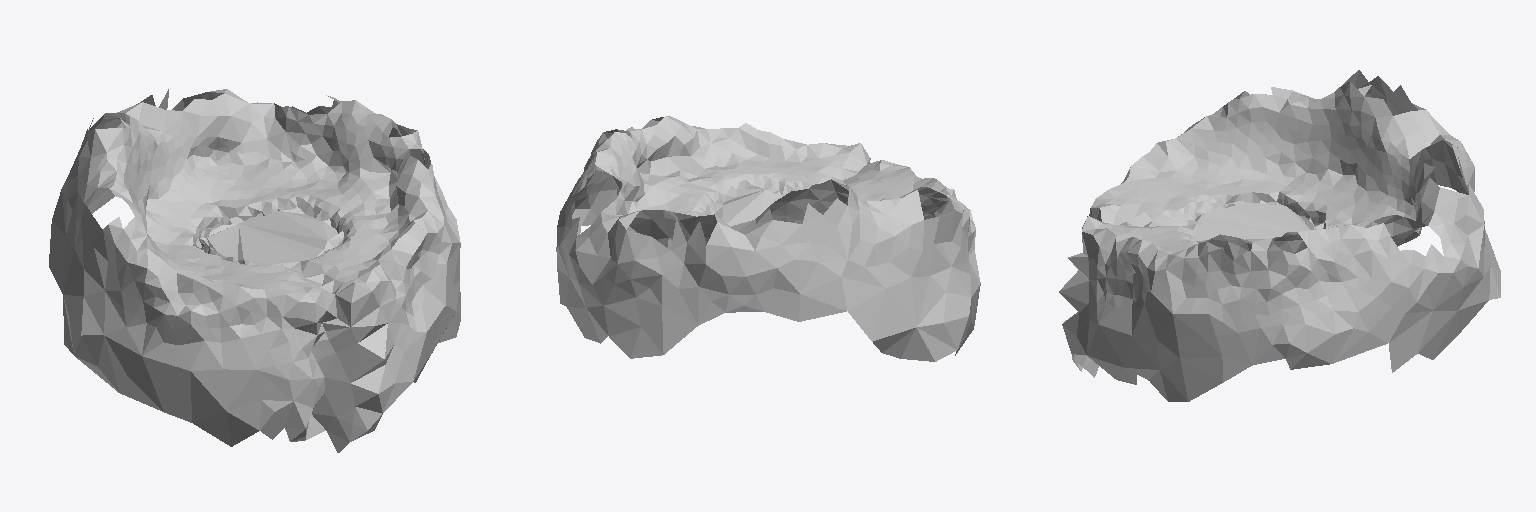
Rendered from island_ground_2.obj.
3 views of the same model, side by side, from view 1: azimuth 30°, elevation 25°; view 2: azimuth 150°, elevation 25°; view 3: azimuth 270°, elevation 25° (orthographic).
Parts seen in each view (by area): view 1: polySurface9 stone island_obj; view 2: polySurface9 stone island_obj; view 3: polySurface9 stone island_obj.
Part boxes in pixels (bbox=[...]): polySurface9 stone island_obj: bbox=[49, 89, 460, 452]; polySurface9 stone island_obj: bbox=[556, 116, 980, 361]; polySurface9 stone island_obj: bbox=[1059, 70, 1500, 401].
Size of the model in its own units: 13.72 by 8.89 by 13.99.